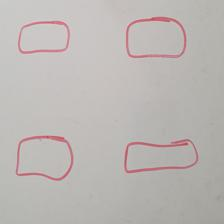macromolecule: (16, 134, 73, 181), (125, 16, 186, 58), (123, 139, 198, 173), (18, 20, 70, 53)
